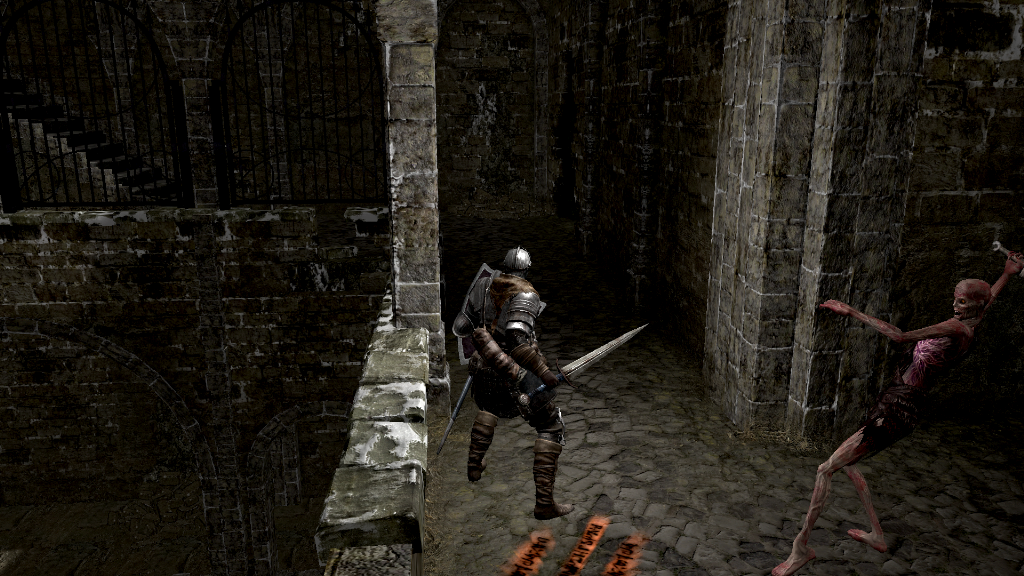hollow: (769, 249, 1024, 576)
player: (451, 246, 652, 519)
